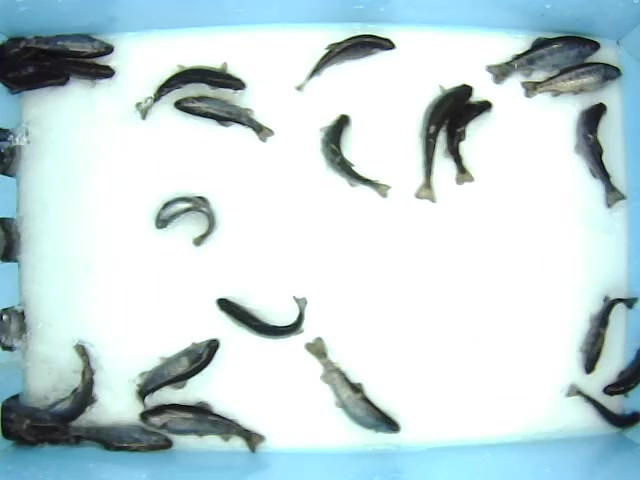fish: (303, 336, 400, 434), (141, 401, 266, 454), (134, 65, 252, 120), (418, 80, 473, 198), (136, 336, 222, 409), (295, 30, 400, 89), (573, 98, 627, 208), (322, 112, 392, 196), (486, 34, 602, 82), (173, 97, 277, 144), (579, 290, 633, 373), (444, 98, 490, 187), (214, 294, 310, 336), (153, 194, 218, 248), (517, 63, 620, 97), (57, 426, 175, 449)
